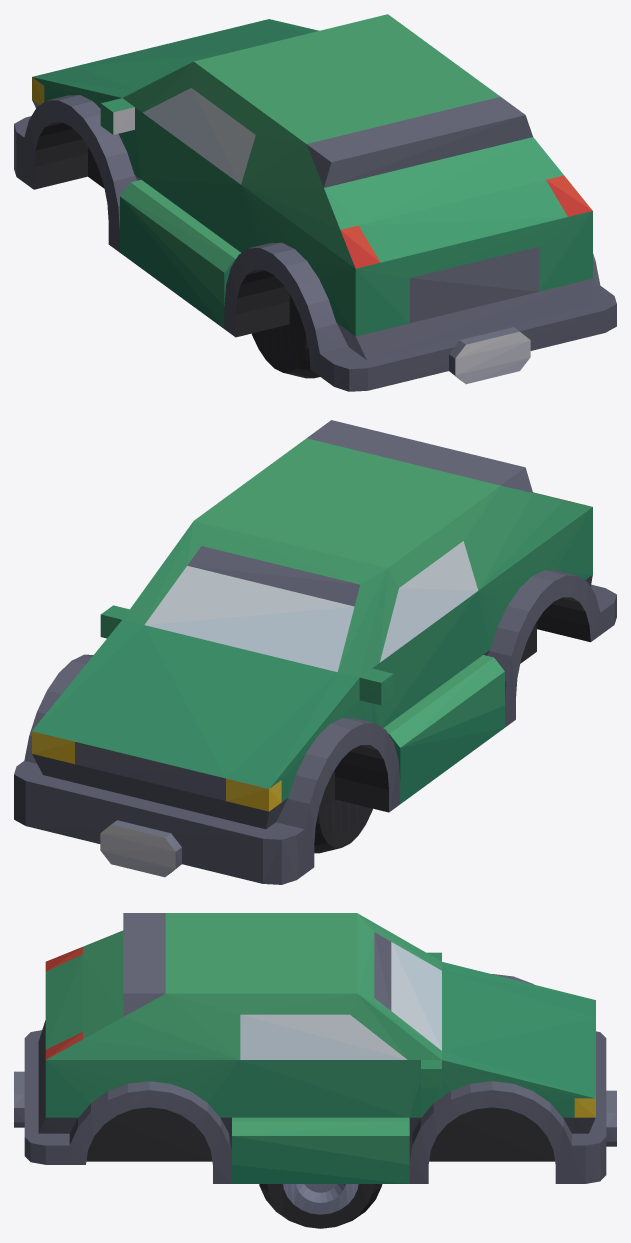
File: hatchback-sports.glb
The picture shows the model from 3 angles, top to bottom: view 1: azimuth 30°, elevation 25°; view 2: azimuth 150°, elevation 25°; view 3: azimuth 270°, elevation 25°; orthographic projection. The views are drawn at different scales.
Parts seen in each view (by area): view 1: trim, wheel; view 2: trim, wheel; view 3: trim, wheel.
Part boxes in pixels (x1,y1,x2,y2): trim: (14,14,616,391); wheel: (252,324,319,378); trim: (14,420,616,884); wheel: (314,799,372,853); trim: (14,913,616,1183); wheel: (259,1184,382,1228).
Size of the model in its own units: 1.3 by 1.4 by 2.85.
